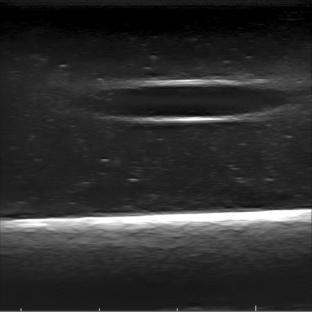vessel: (103, 77, 289, 125)
